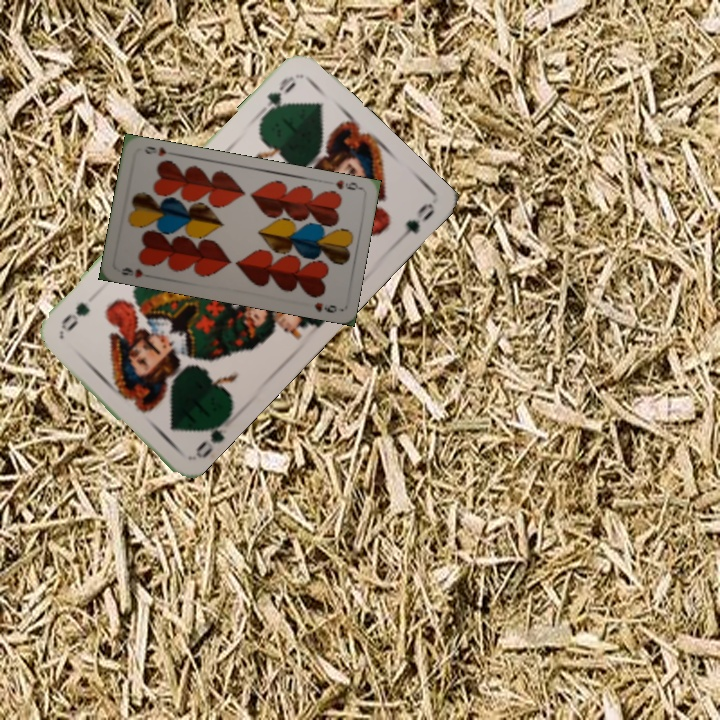GO: (253, 71, 299, 124), (191, 412, 232, 461)
H9: (331, 176, 363, 193), (118, 263, 145, 281)
